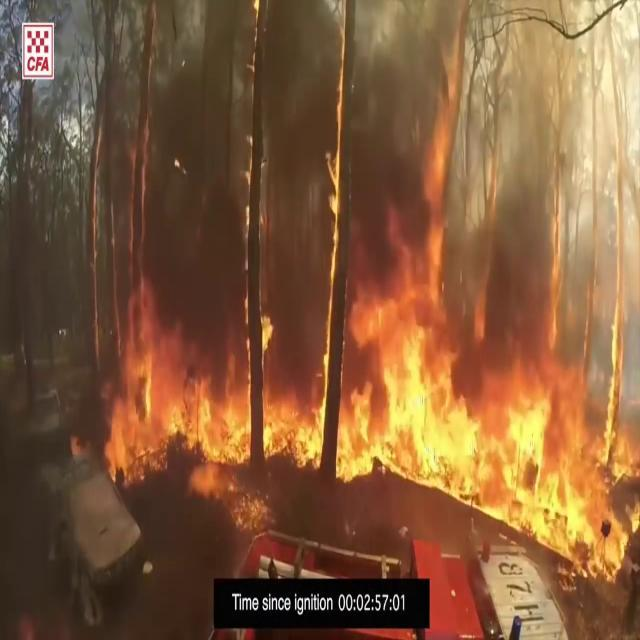Fire: (446, 311, 640, 581), (270, 298, 454, 488), (99, 278, 269, 478)
Smoke: (72, 0, 612, 292)
